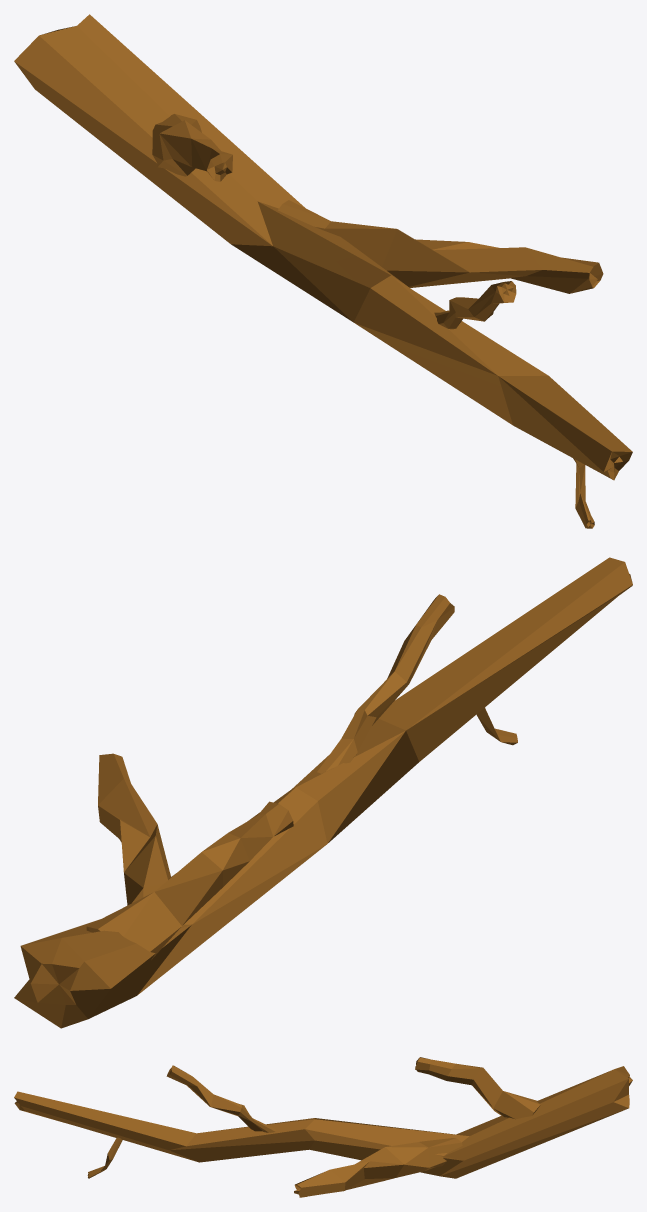
Rendered from arme_branche.fbx.
3 views of the same model, one above another, from view 1: azimuth 30°, elevation 25°; view 2: azimuth 150°, elevation 25°; view 3: azimuth 270°, elevation 25° (orthographic). The views are drawn at different scales.
Parts seen in each view (by area): view 1: Cylinder031; view 2: Cylinder031; view 3: Cylinder031.
Part boxes in pixels (x1,y1,x2,y2): Cylinder031: (14, 14, 632, 528); Cylinder031: (14, 557, 632, 1028); Cylinder031: (14, 1057, 632, 1197).
Bounding box in the file's own units: 19.11 × 11.91 × 60.84.
